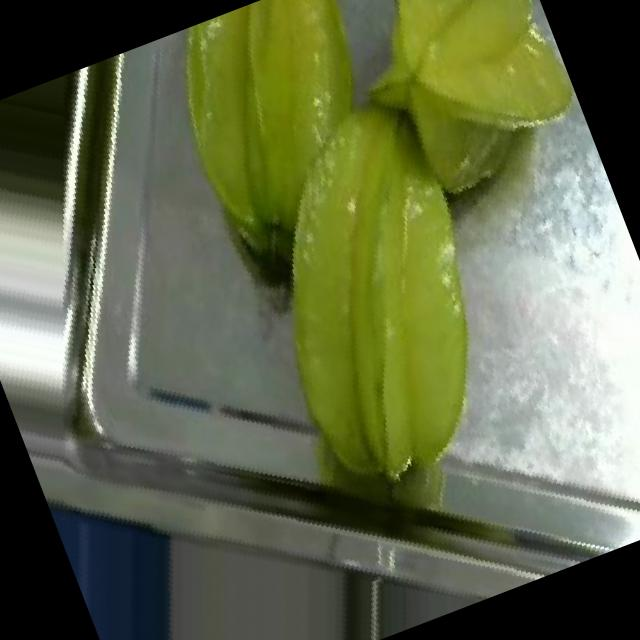fruit: (143, 52, 602, 564), (104, 0, 540, 368), (306, 0, 604, 242)
